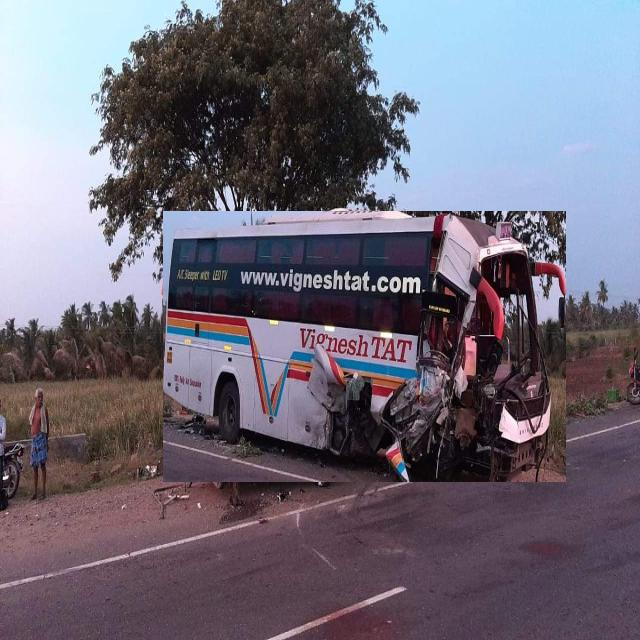accident: (163, 211, 565, 482)
